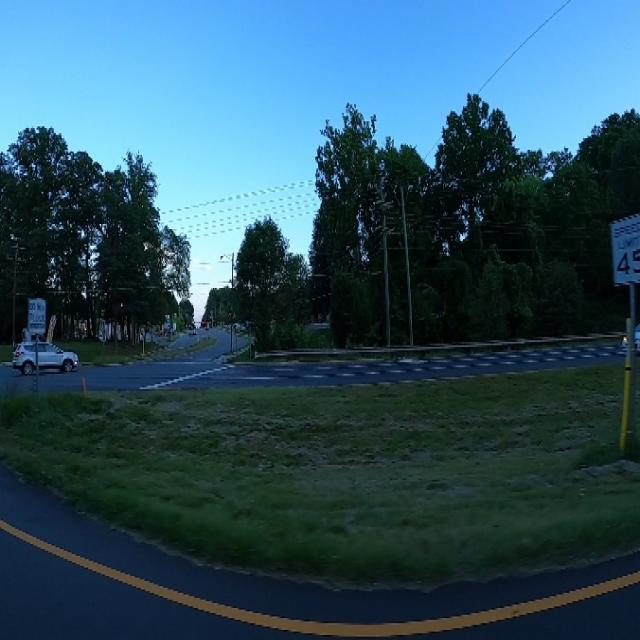car: (8, 327, 82, 379)
